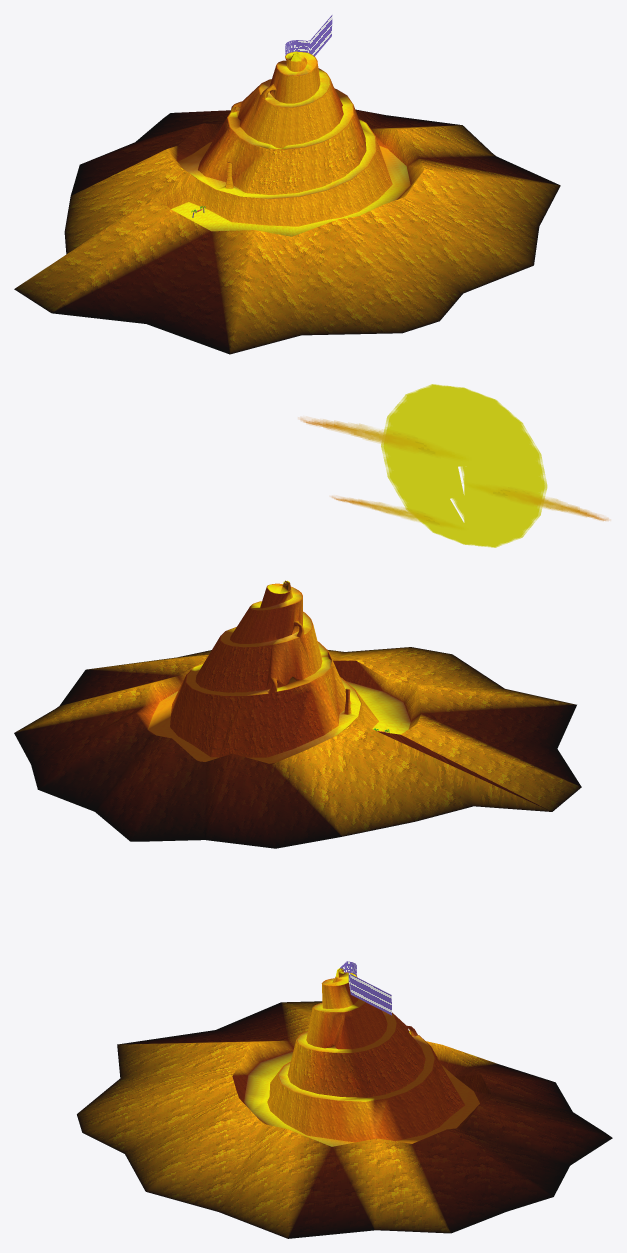
The model's file is TrickyTops.glb.
3 views of the same model, one above another, from view 1: azimuth 30°, elevation 25°; view 2: azimuth 150°, elevation 25°; view 3: azimuth 270°, elevation 25° (orthographic). The views are drawn at different scales.
Visible parts, largest first — view 1: TrickyTops_3, TrickyTops_6, TrickyTops_Alpha_10; view 2: TrickyTops_3, TrickyTops_Alpha_18, TrickyTops_6, TrickyTops_Alpha_17; view 3: TrickyTops_3, TrickyTops_6, TrickyTops_Alpha_10.
Part boxes in pixels (bbox=[...]): TrickyTops_3: bbox=[14, 51, 560, 354]; TrickyTops_6: bbox=[171, 60, 410, 236]; TrickyTops_Alpha_10: bbox=[192, 15, 332, 217]; TrickyTops_3: bbox=[14, 583, 581, 848]; TrickyTops_Alpha_18: bbox=[381, 384, 547, 547]; TrickyTops_6: bbox=[147, 584, 410, 763]; TrickyTops_Alpha_17: bbox=[300, 417, 608, 529]; TrickyTops_3: bbox=[77, 972, 612, 1238]; TrickyTops_6: bbox=[244, 978, 479, 1146]; TrickyTops_Alpha_10: bbox=[340, 961, 391, 1015].
Size of the model in its own units: 2500 by 1153 by 2657.
19 materials, 19 textured.
